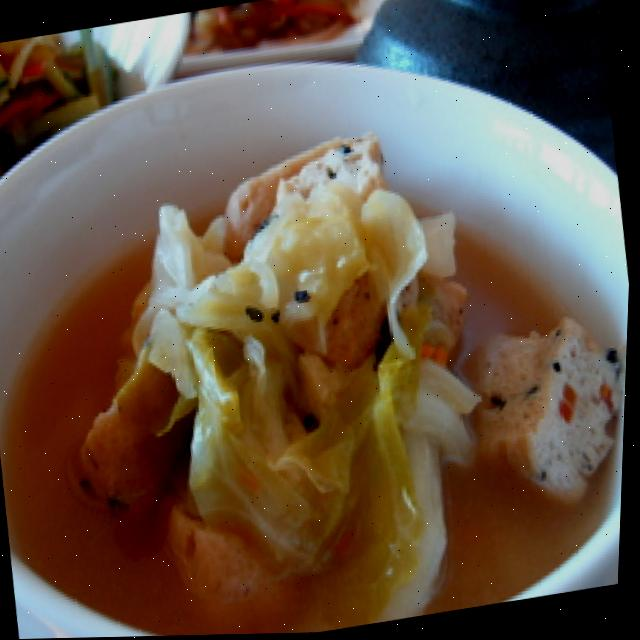熟制海鲜: (0, 52, 638, 640)
